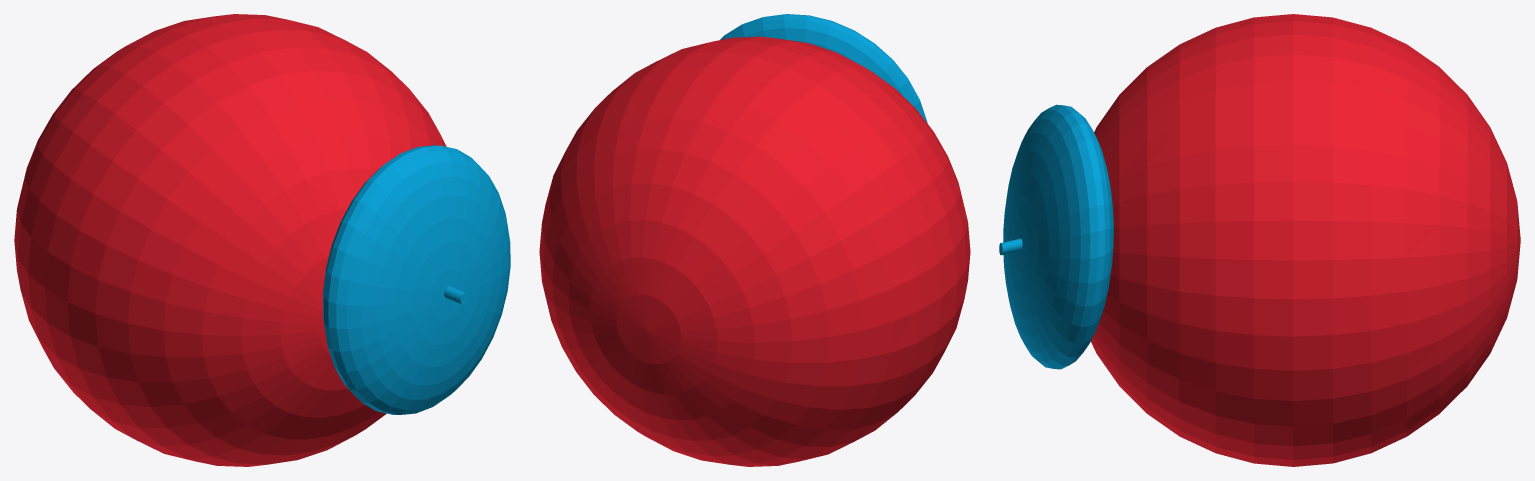
Rendered from Avater2.obj.
3 views of the same model, side by side, from view 1: azimuth 30°, elevation 25°; view 2: azimuth 150°, elevation 25°; view 3: azimuth 270°, elevation 25° (orthographic). The views are drawn at different scales.
Visible parts, largest first — view 1: group_0_15277357, group_0_40919; view 2: group_0_15277357, group_0_40919; view 3: group_0_15277357, group_0_40919.
Part boxes in pixels (x1=…): group_0_15277357: x1=14, y1=14, x2=446, y2=466; group_0_40919: x1=323, y1=145, x2=510, y2=414; group_0_15277357: x1=539, y1=36, x2=970, y2=466; group_0_40919: x1=720, y1=14, x2=927, y2=123; group_0_15277357: x1=1091, y1=14, x2=1520, y2=466; group_0_40919: x1=999, y1=104, x2=1113, y2=369.
Bounding box in the file's own units: 16 × 16 × 18.35.
